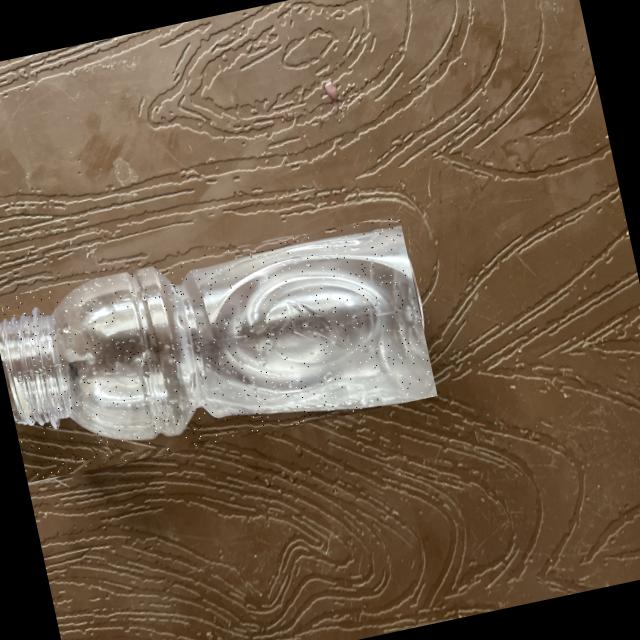PET_With_Liquid: (11, 229, 436, 439)
